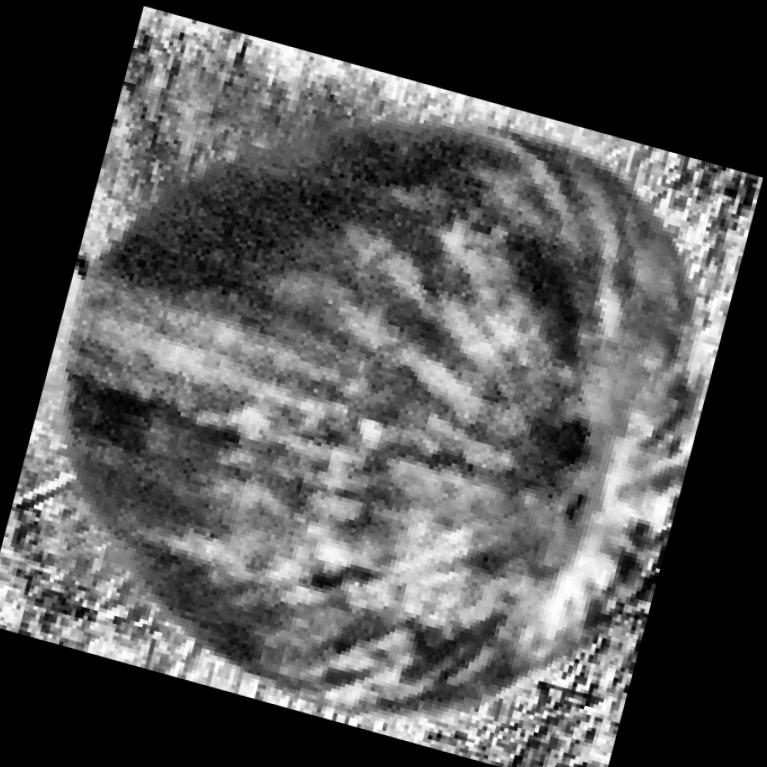qualityHazelnut: (0, 3, 766, 767)
